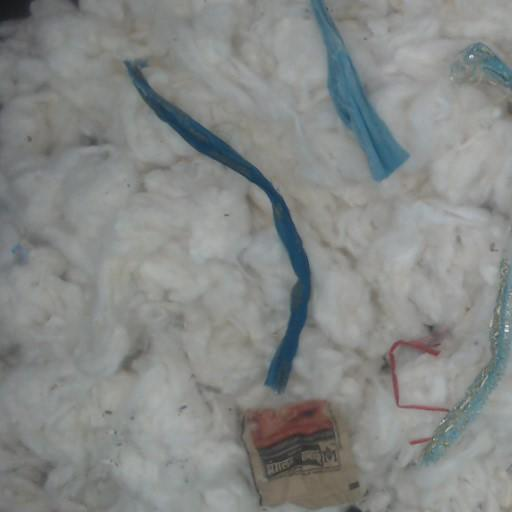cloth: (126, 61, 310, 391), (311, 0, 408, 180)
cotton: (0, 0, 511, 511), (393, 360, 511, 511)
packet: (242, 399, 362, 508)
thread: (422, 227, 511, 463), (452, 43, 511, 98)
